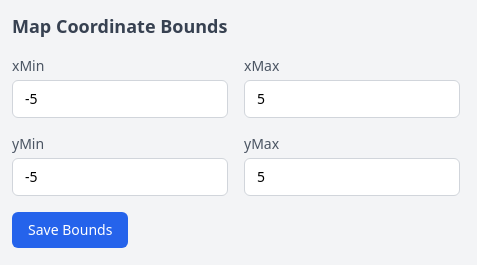
Test: MapConfigForm › shows saving state while submitting
Step 1. Click the button "Save Bounds" → click(70, 230), box [12, 212, 128, 248]
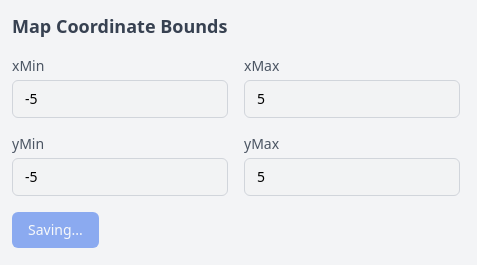
Check: the button "Saving..." is disabled, box [12, 212, 99, 248]
